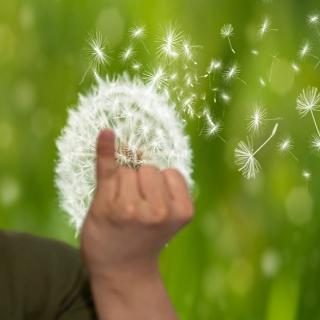FINE: (75, 126, 198, 280)
